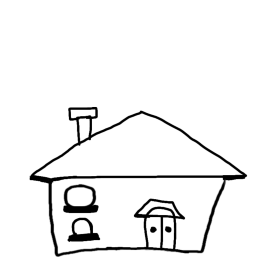bottom_placed_house: (2, 3, 260, 260)
chimney: (57, 98, 107, 155)
door: (132, 194, 192, 257)
open_window: (57, 181, 104, 215), (63, 214, 105, 246)
roof: (21, 89, 250, 185)
wall: (47, 169, 229, 260)
